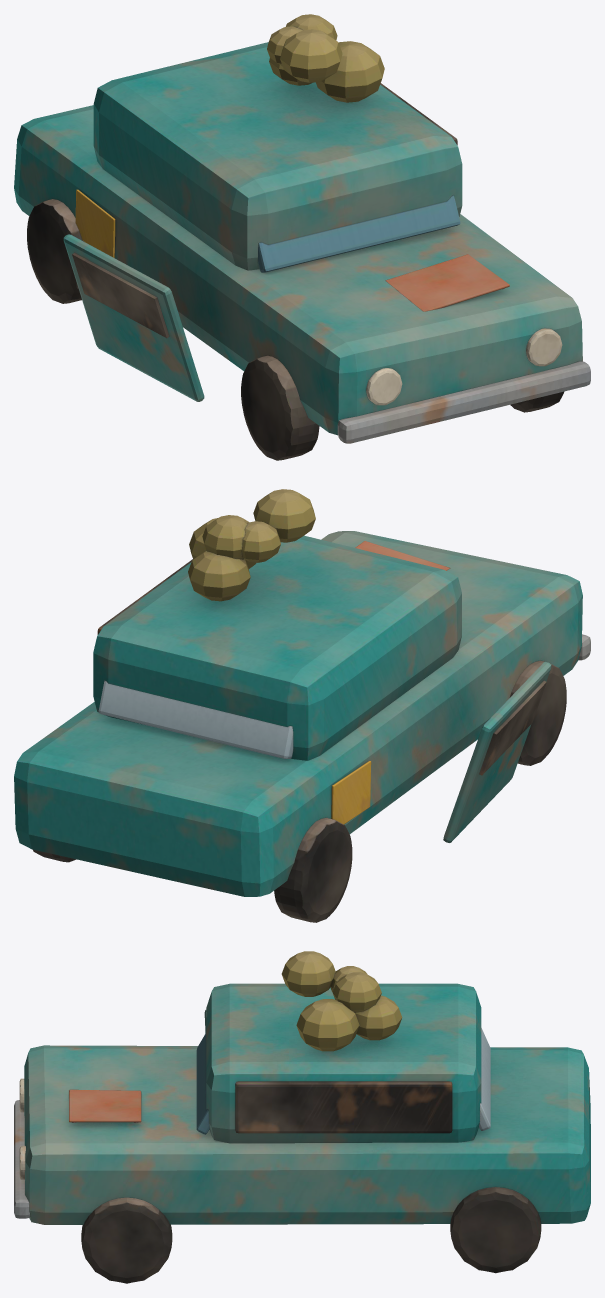
File: car_wreck.glb
The picture shows the model from 3 angles, top to bottom: view 1: azimuth 30°, elevation 25°; view 2: azimuth 150°, elevation 25°; view 3: azimuth 270°, elevation 25°; orthographic projection. The views are drawn at different scales.
Visible parts, largest first — view 1: CarWreck_Mesh; view 2: CarWreck_Mesh; view 3: CarWreck_Mesh.
Part boxes in pixels (box(x1,y1,x2,y2)): CarWreck_Mesh: box(14, 14, 590, 460); CarWreck_Mesh: box(14, 489, 590, 922); CarWreck_Mesh: box(14, 951, 590, 1283).
Bounding box in the file's own units: 2.43 × 2.12 × 3.99.
Materials: 1 (1 with a texture image).
